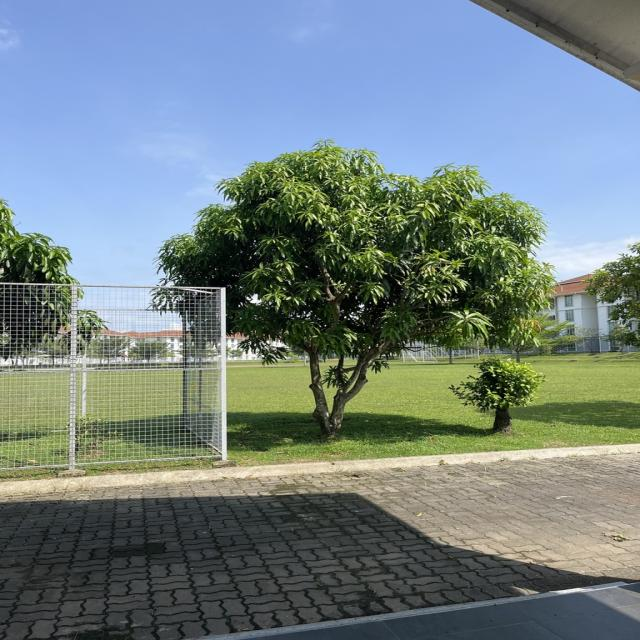Mango-Tree: (209, 157, 495, 432)
